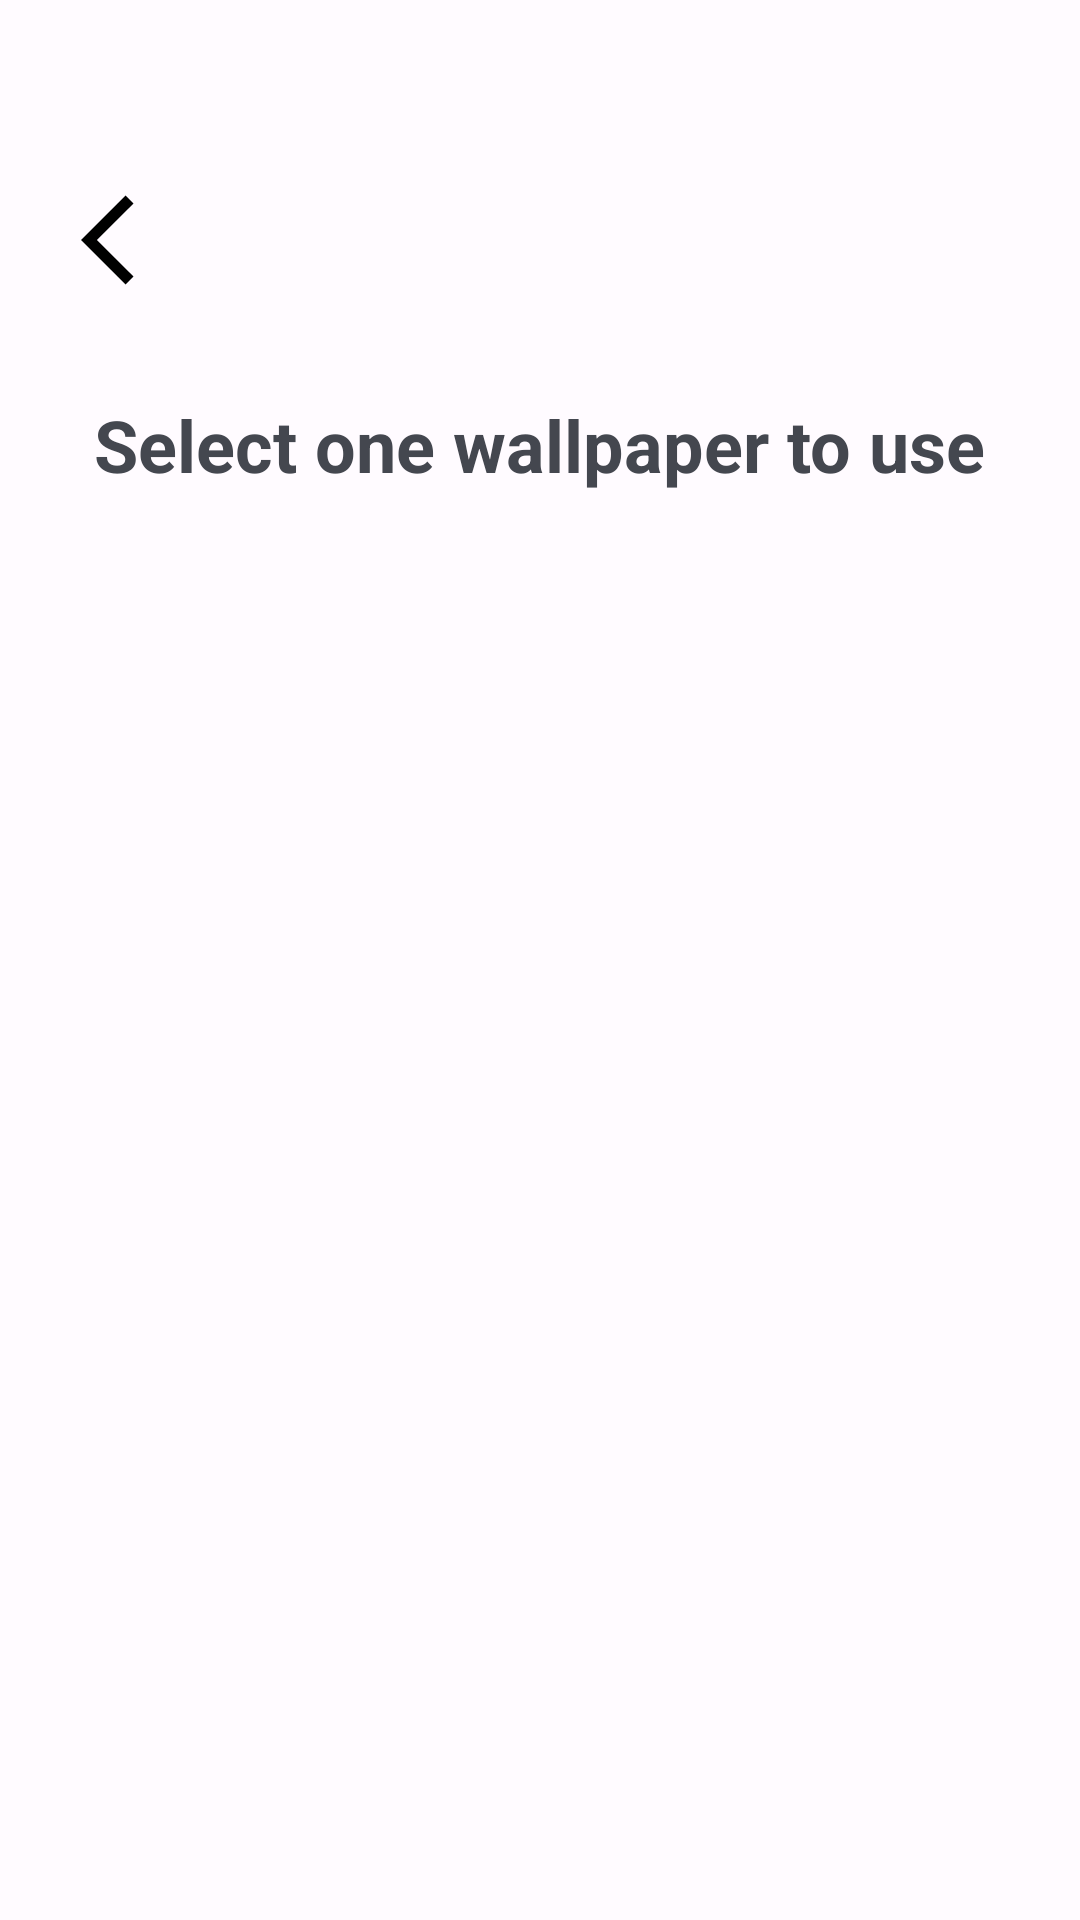

Named icons in this screenshot (1080x1920) and their centers, [x,y]:
arrow back: [107,240]
